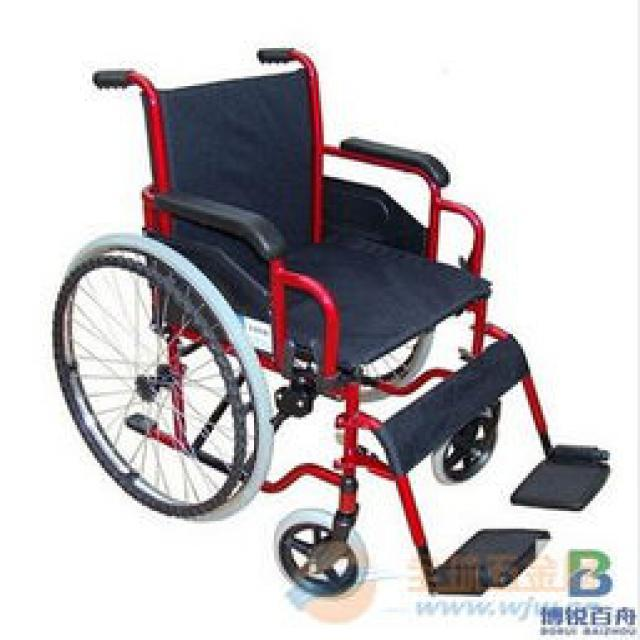wheelchair: (39, 41, 616, 594)
